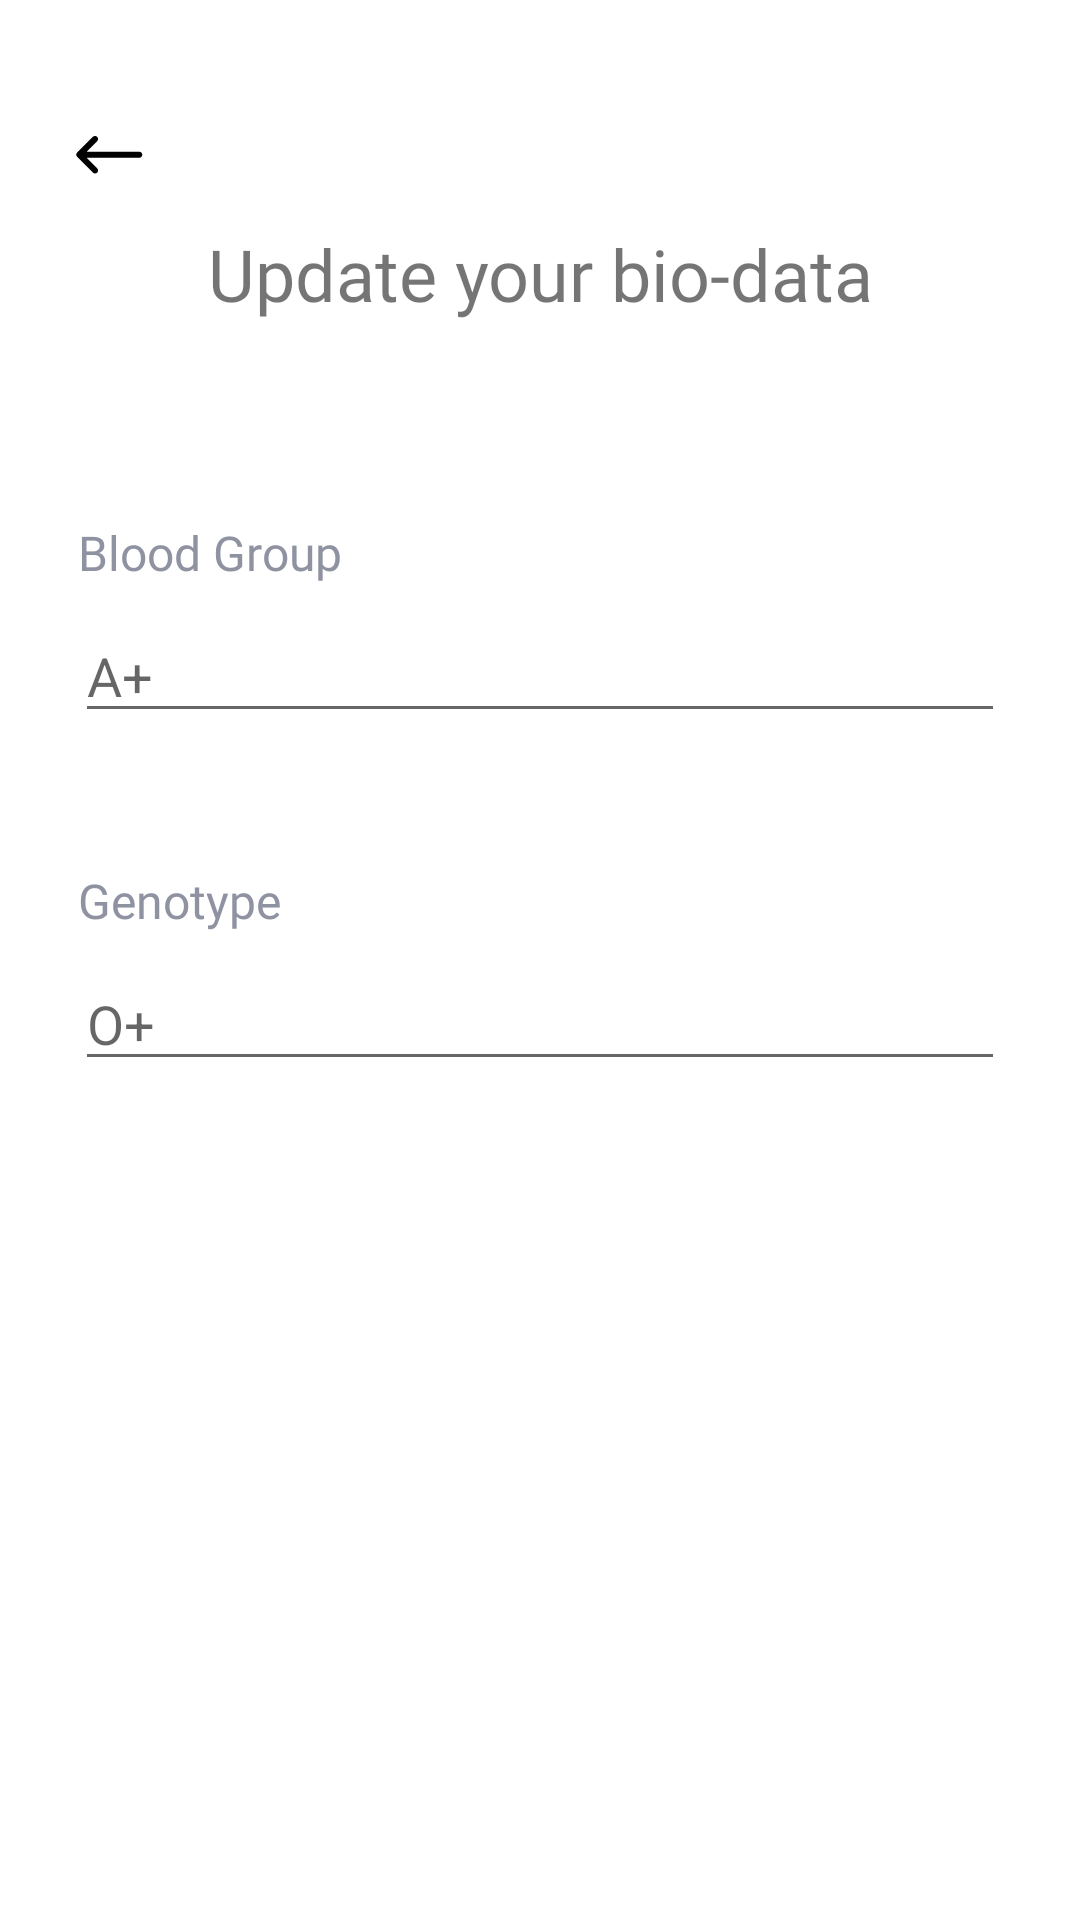

Icons on this 1080px×1920px Android screen, each with its box as (x1, y1, x2, y2):
back: (76, 136, 143, 174)
